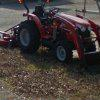Tractor: (16, 13, 100, 73)
